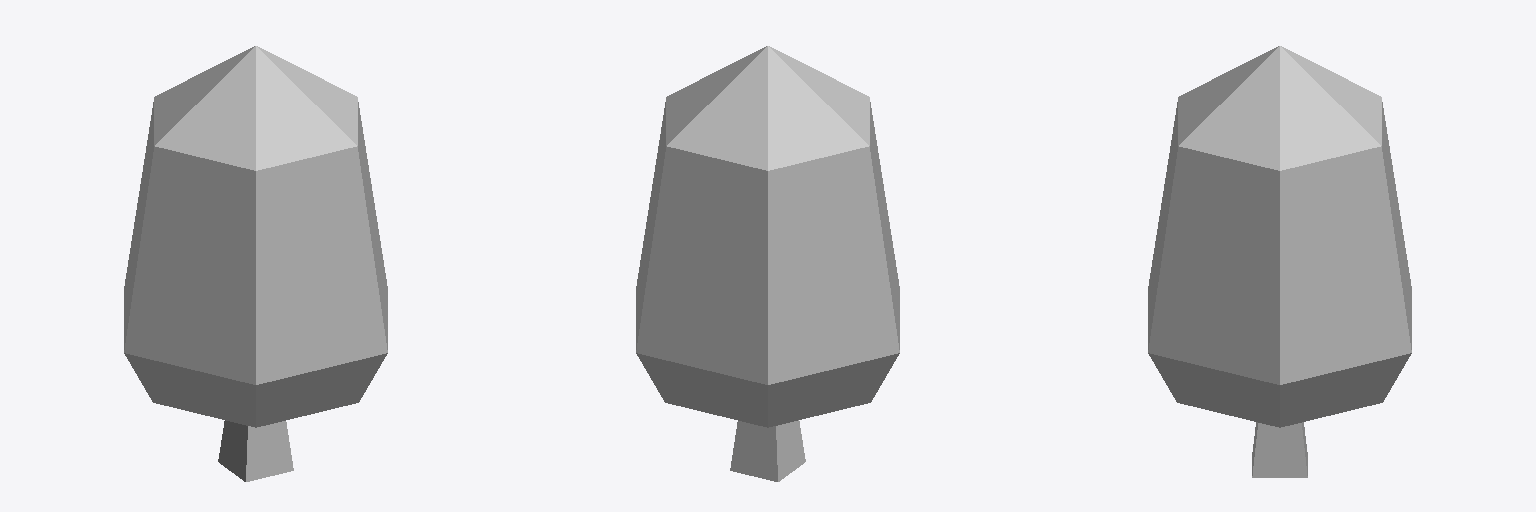
Rendered from BasicTree.obj.
The picture shows the model from 3 angles: view 1: azimuth 30°, elevation 25°; view 2: azimuth 150°, elevation 25°; view 3: azimuth 270°, elevation 25°; orthographic projection.
Parts seen in each view (by area): view 1: roadTile_020; view 2: roadTile_020; view 3: roadTile_020.
Boxes of the visible parts, box(x1,y1,x2,y2) form: roadTile_020: box(124, 46, 387, 481); roadTile_020: box(636, 46, 899, 481); roadTile_020: box(1148, 46, 1411, 477).
Size of the model in its own units: 1.72 by 2.62 by 1.49.